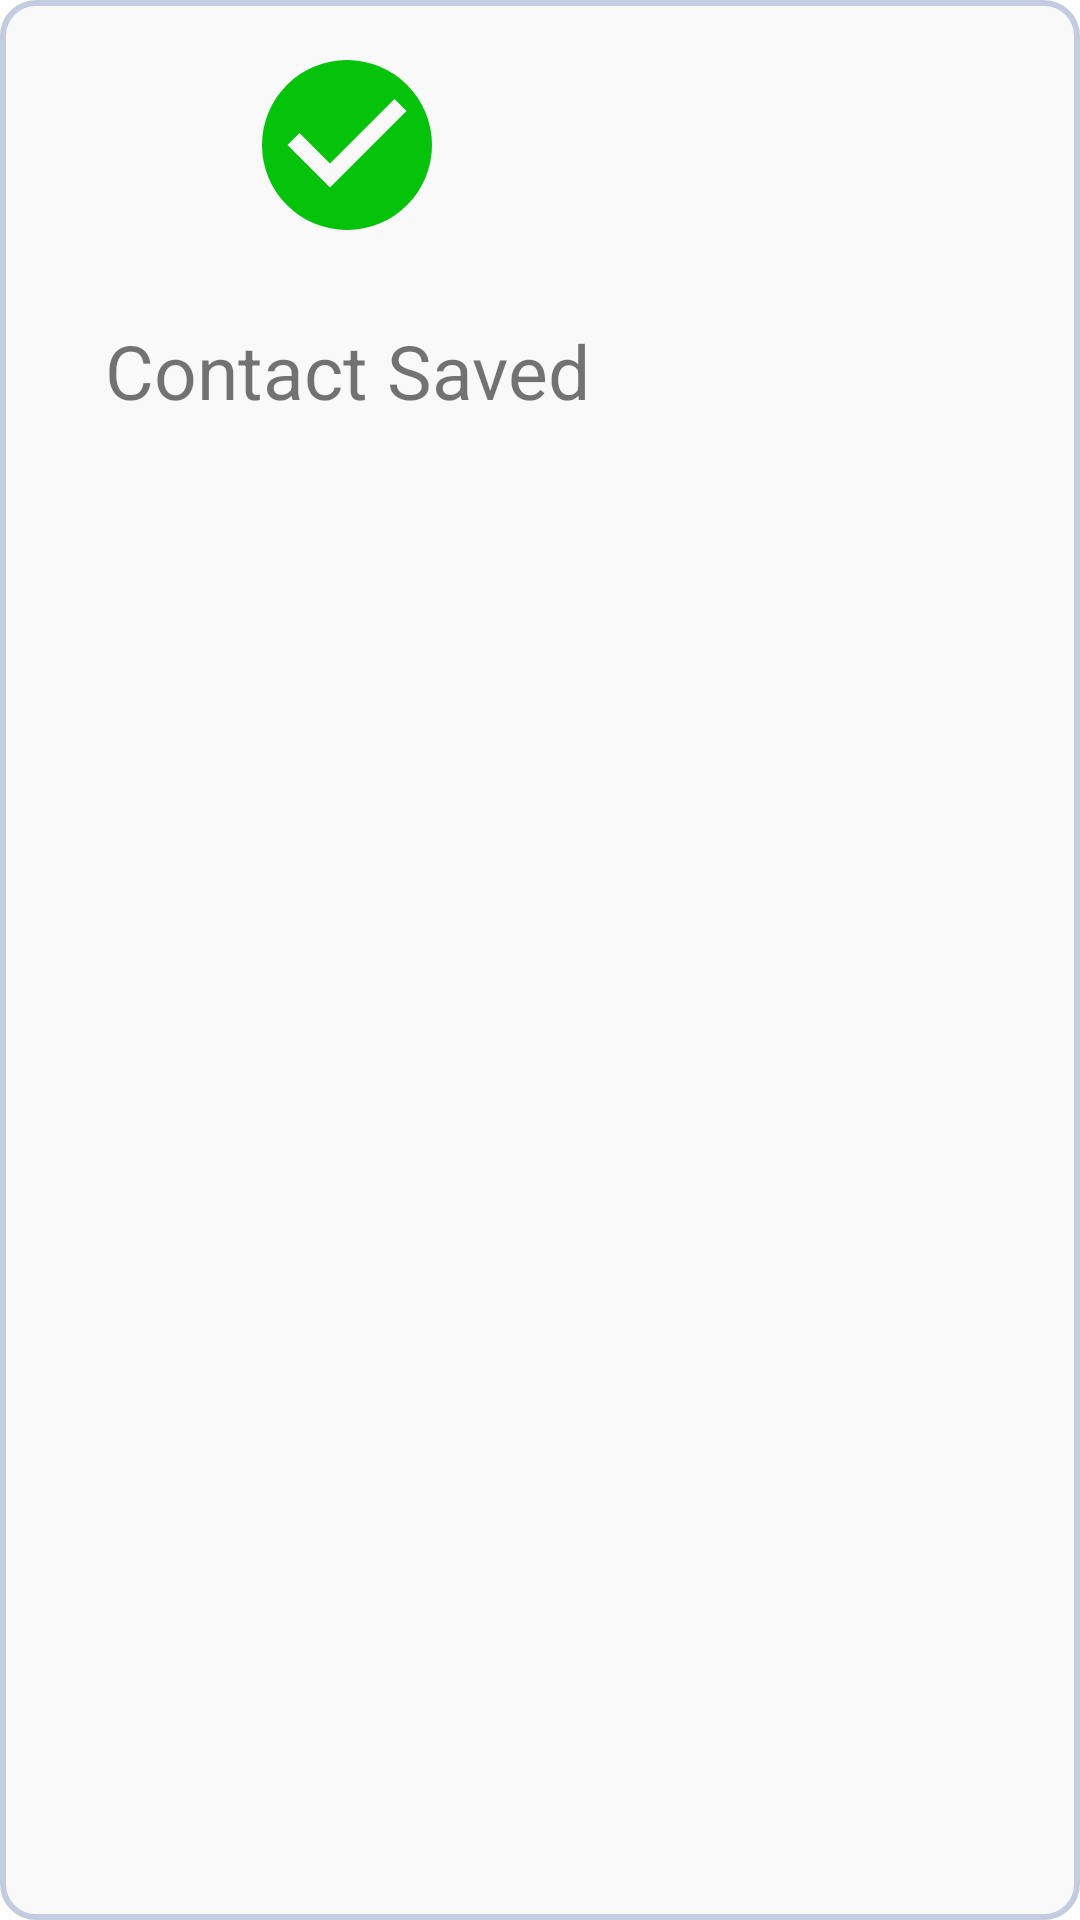

Where to tap for icons on this 1080*1920 app screen, as (x,y):
check circle: (347,145)
